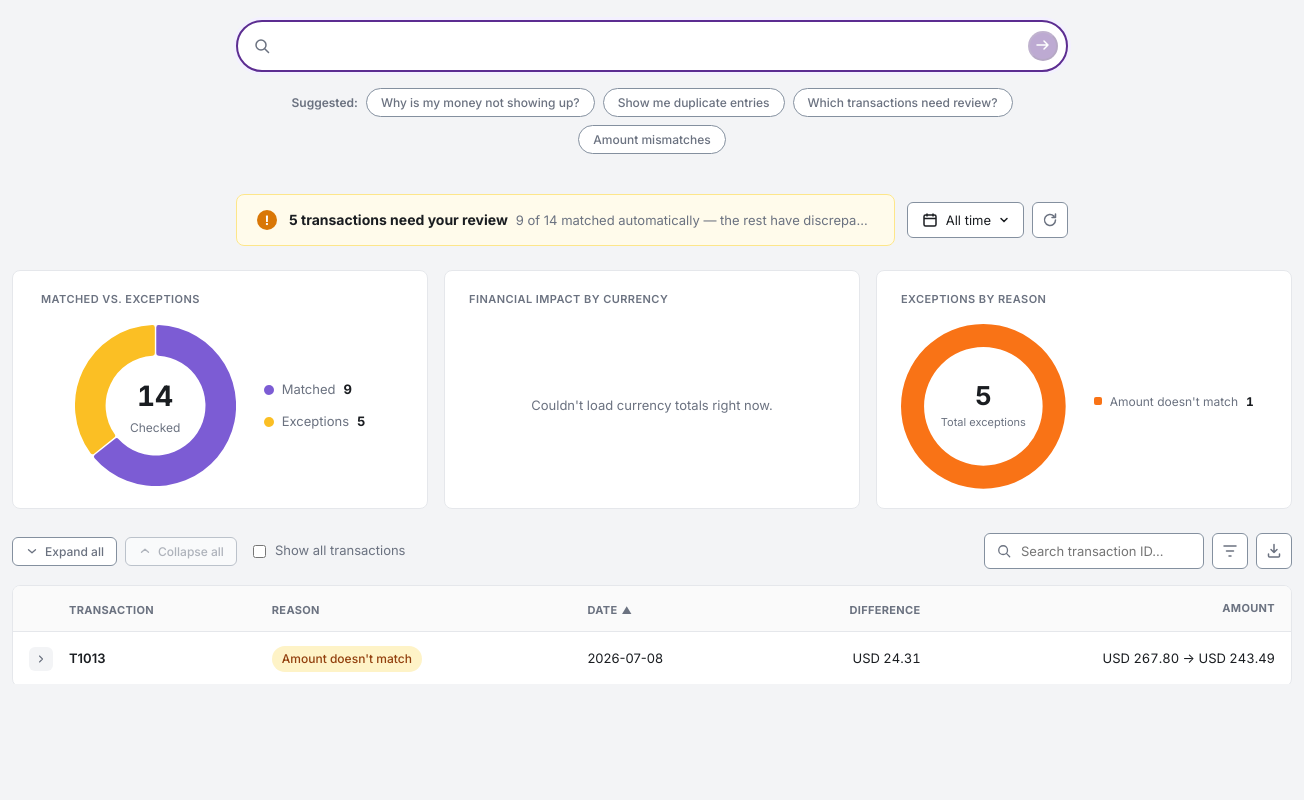
Test: Dashboard › expands a row inline to show its exception detail via a keyboard-operable row action
Click the button named "expand details for transaction t1013" at (41, 659), box 29,647 -> 53,671
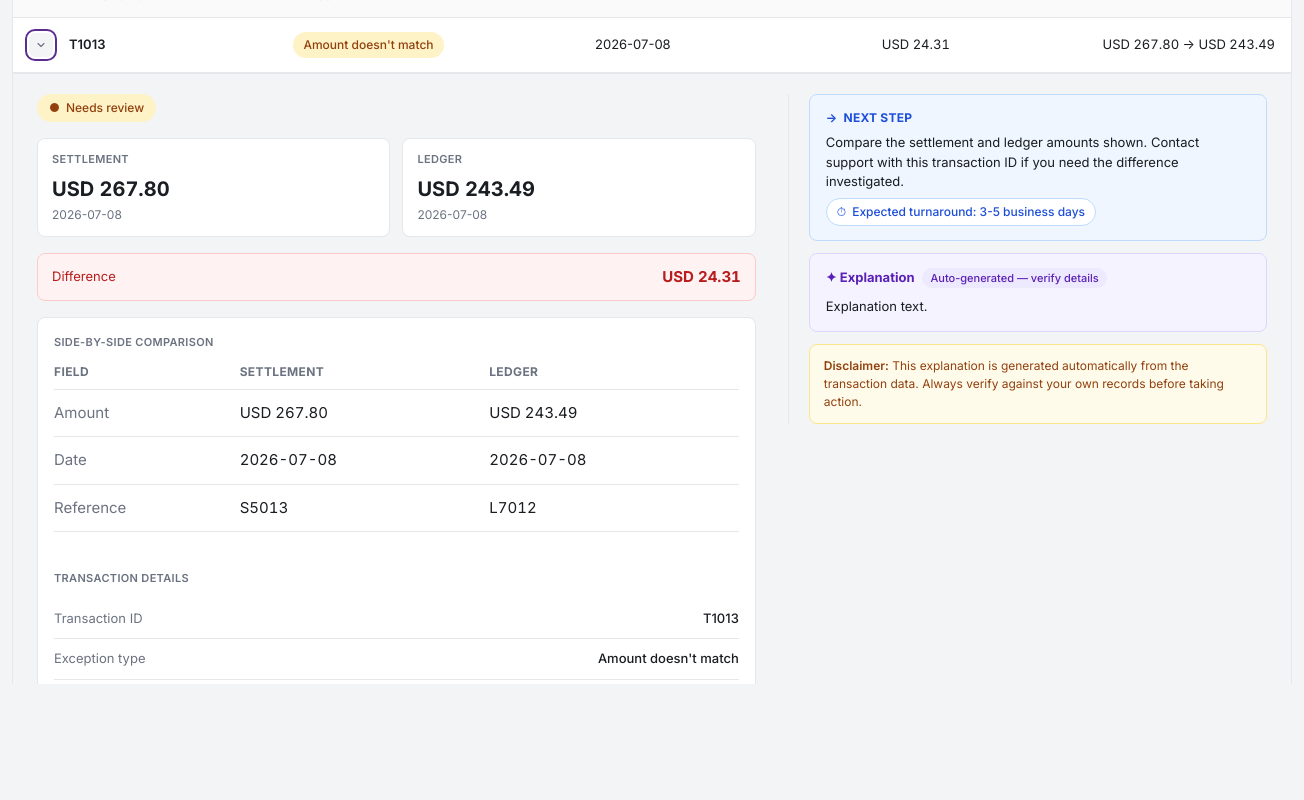
expect the heading "Side-by-side comparison" is shown: met, box 54,335 -> 214,349
